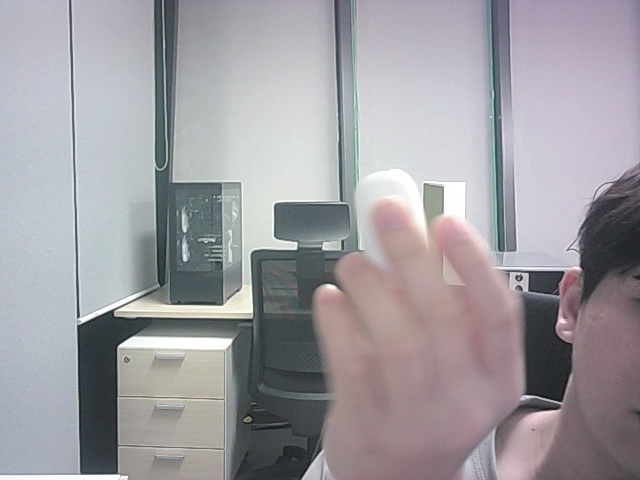case: (355, 169, 425, 269)
